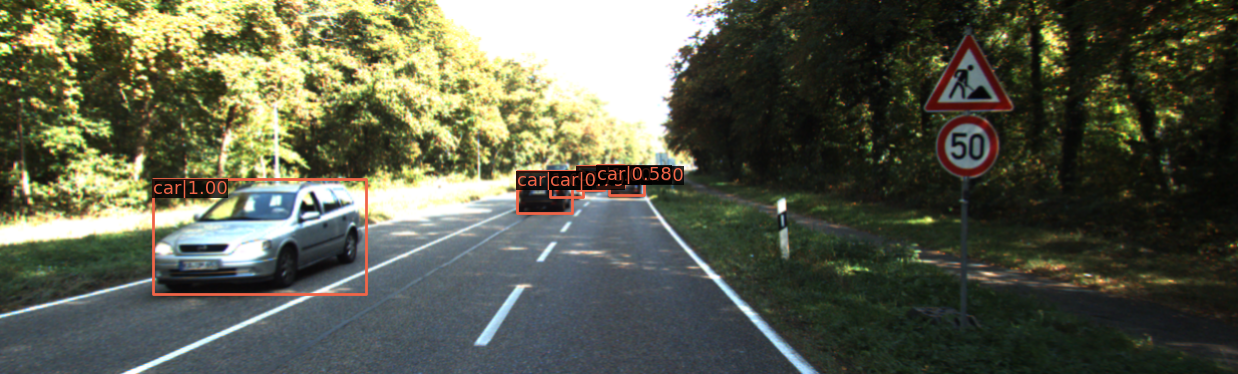car: (160, 182, 368, 289), (517, 172, 571, 213), (608, 167, 641, 196), (550, 171, 584, 199), (579, 166, 605, 189)
